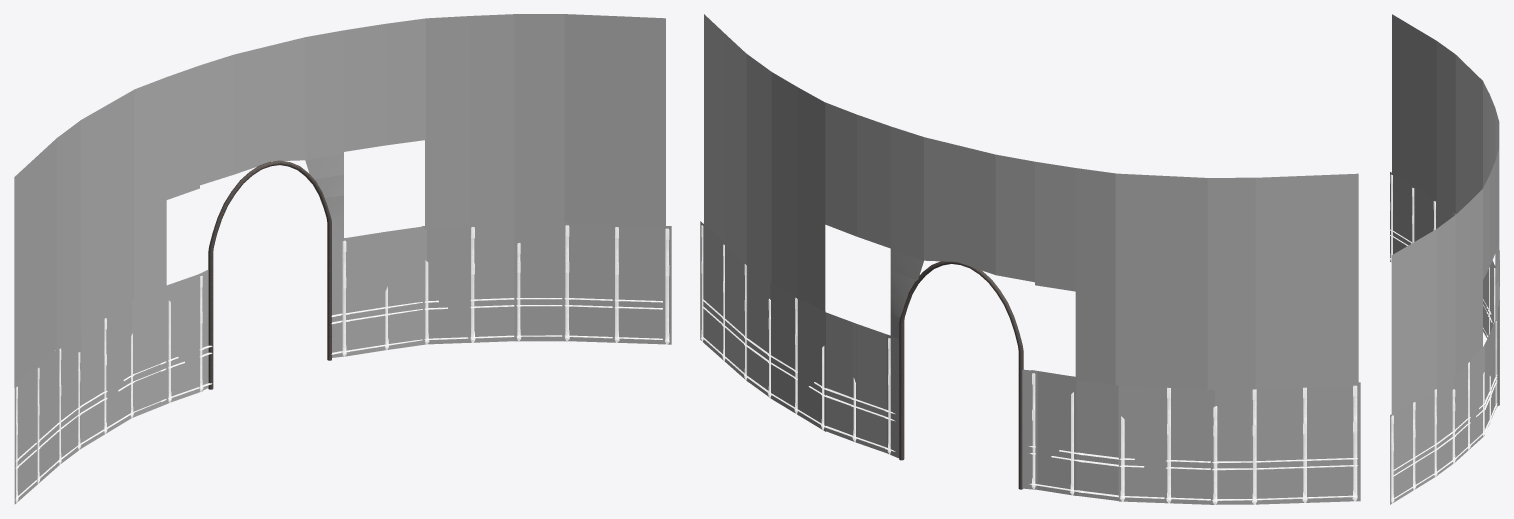
The model's file is P_BossAtriumCircleRailing_Down04.fbx.
3 renders of one model, left to right at view 1: azimuth 30°, elevation 25°; view 2: azimuth 150°, elevation 25°; view 3: azimuth 270°, elevation 25°, orthographic. The views are drawn at different scales.
Parts seen in each view (by area): view 1: P_BossAtriumCircleRailing_Down04; view 2: P_BossAtriumCircleRailing_Down04; view 3: P_BossAtriumCircleRailing_Down04.
Boxes of the visible parts, bbox=[...] form: P_BossAtriumCircleRailing_Down04: bbox=[14, 14, 671, 504]; P_BossAtriumCircleRailing_Down04: bbox=[700, 14, 1360, 504]; P_BossAtriumCircleRailing_Down04: bbox=[1389, 14, 1499, 504].
Bounding box in the file's own units: 2552 × 1215 × 488.
